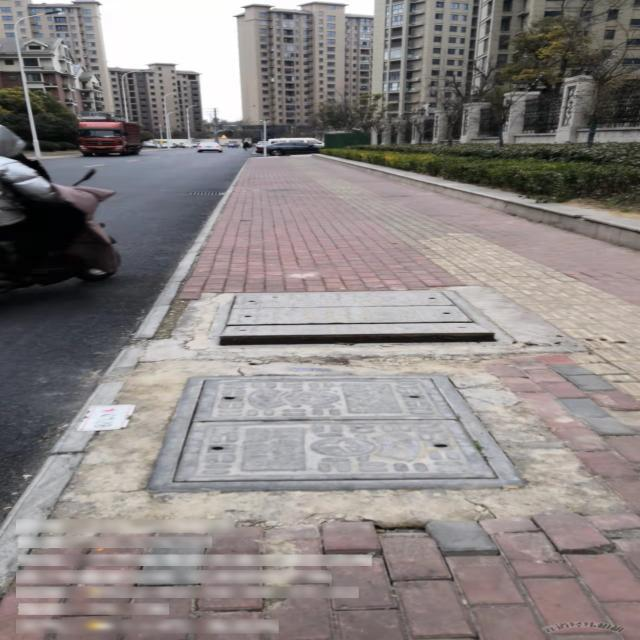Faulty: (207, 291, 519, 351)
Good: (144, 376, 528, 494)
